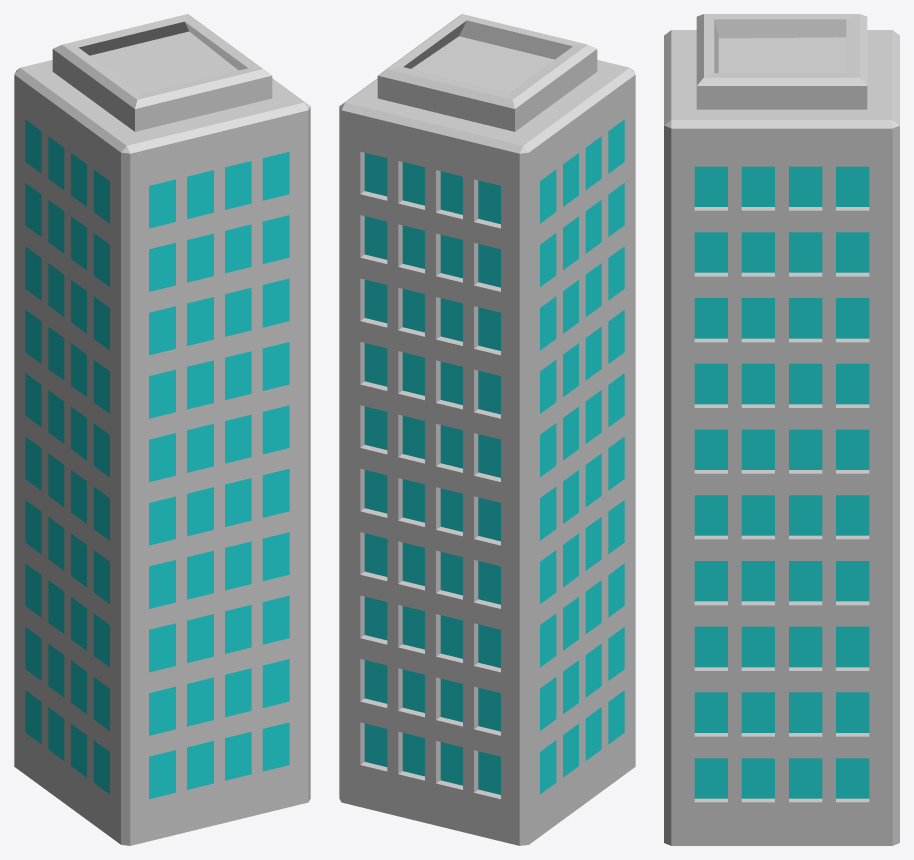
Rendered from ENV_Building.fbx.
3 views of the same model, side by side, from view 1: azimuth 30°, elevation 25°; view 2: azimuth 150°, elevation 25°; view 3: azimuth 270°, elevation 25° (orthographic). The views are drawn at different scales.
Visible parts, largest first — view 1: ENV_Building; view 2: ENV_Building; view 3: ENV_Building.
Part boxes in pixels (left/top/right/bottom): ENV_Building: left=14, top=14, right=310, bottom=845; ENV_Building: left=339, top=14, right=635, bottom=845; ENV_Building: left=664, top=14, right=899, bottom=845.
Bounding box in the file's own units: 445 × 1629 × 462.
